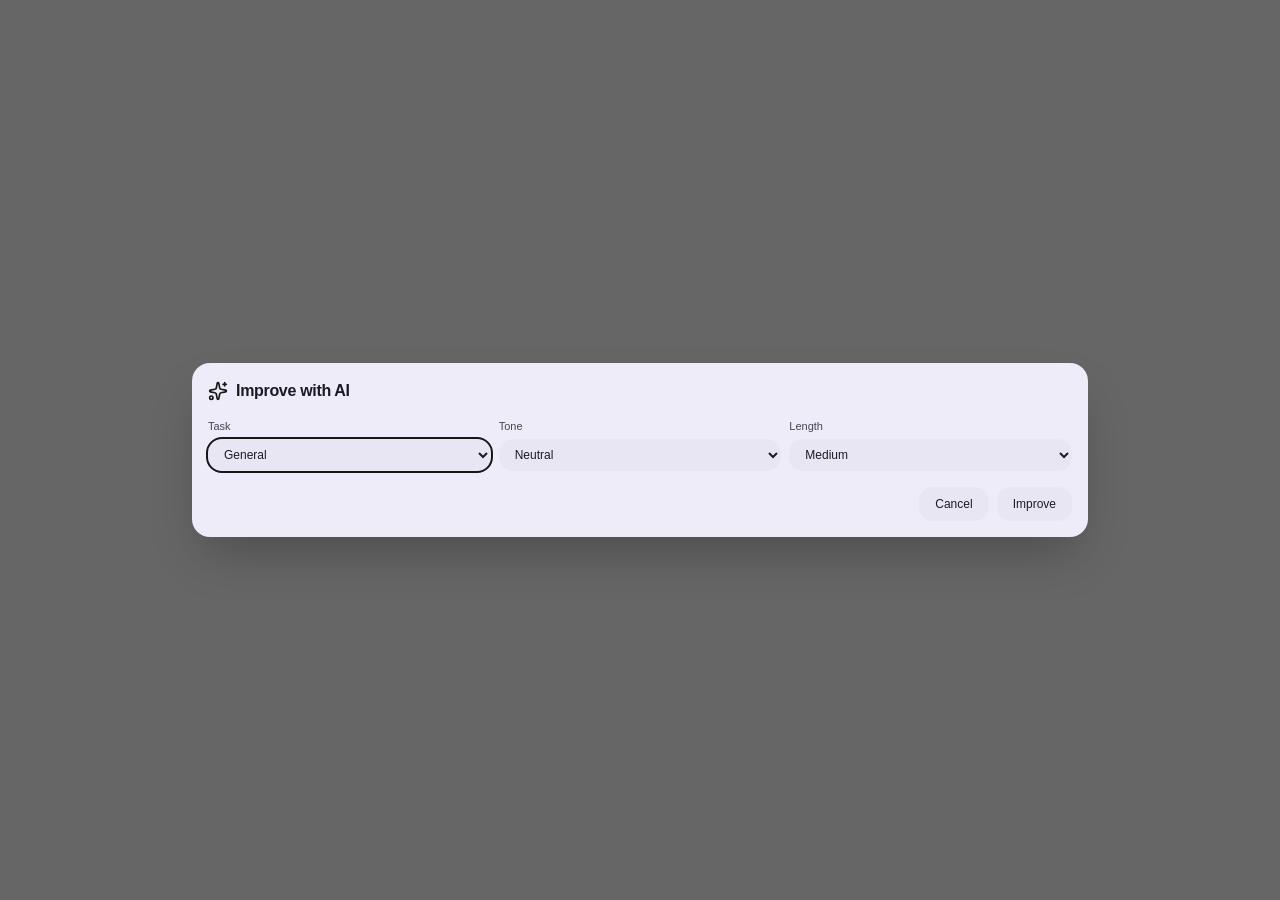
Test case: ImprovePromptDialog › sends the prompt and the chosen options
The width and height of the screenshot is (1280, 900).
Step 1. Select "Friendly" in the dropdown labelled "Tone" → (640, 455), box top-left (499, 439), bottom-right (781, 471)
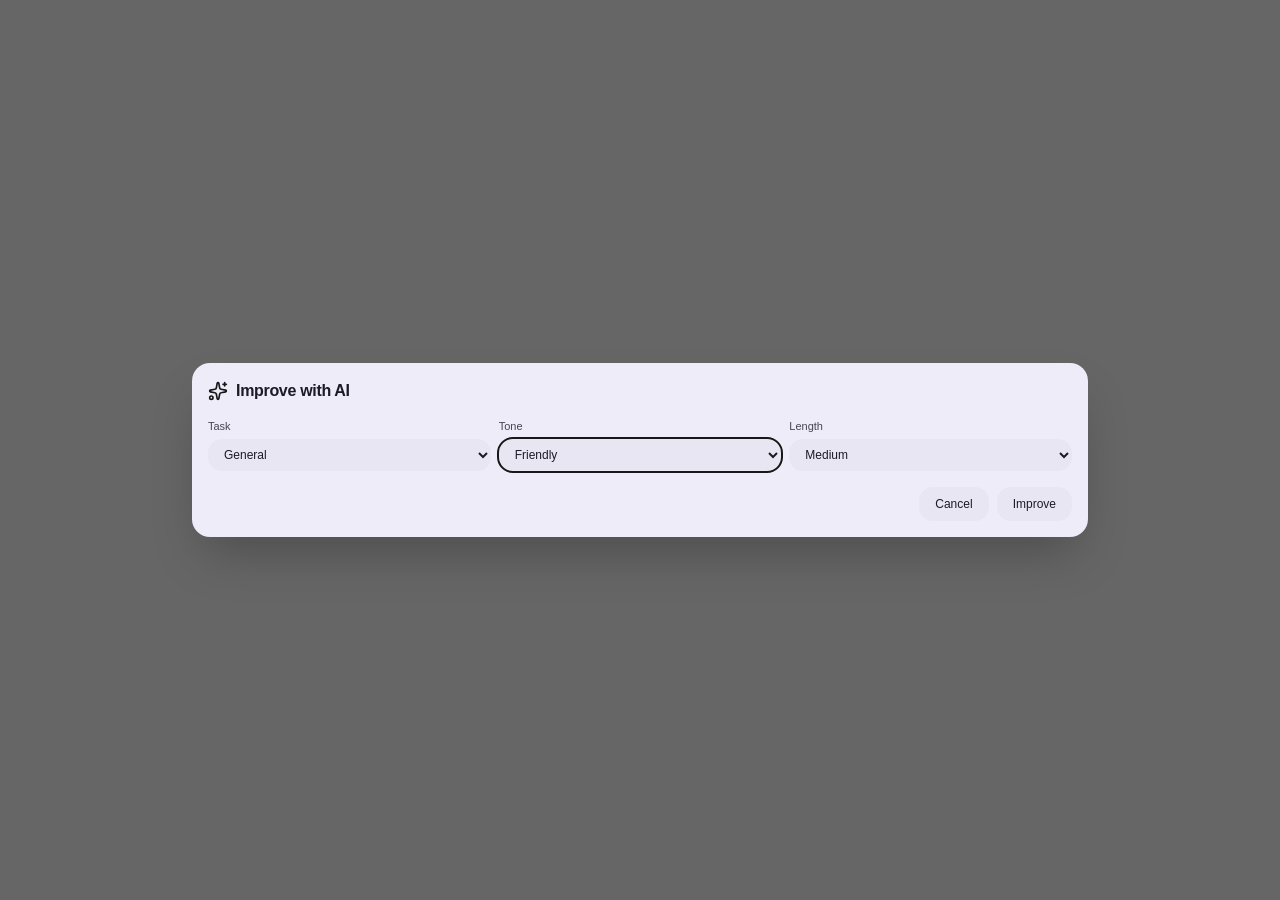
Step 2. Click the button "Improve" → (1034, 504), box top-left (997, 487), bottom-right (1072, 521)
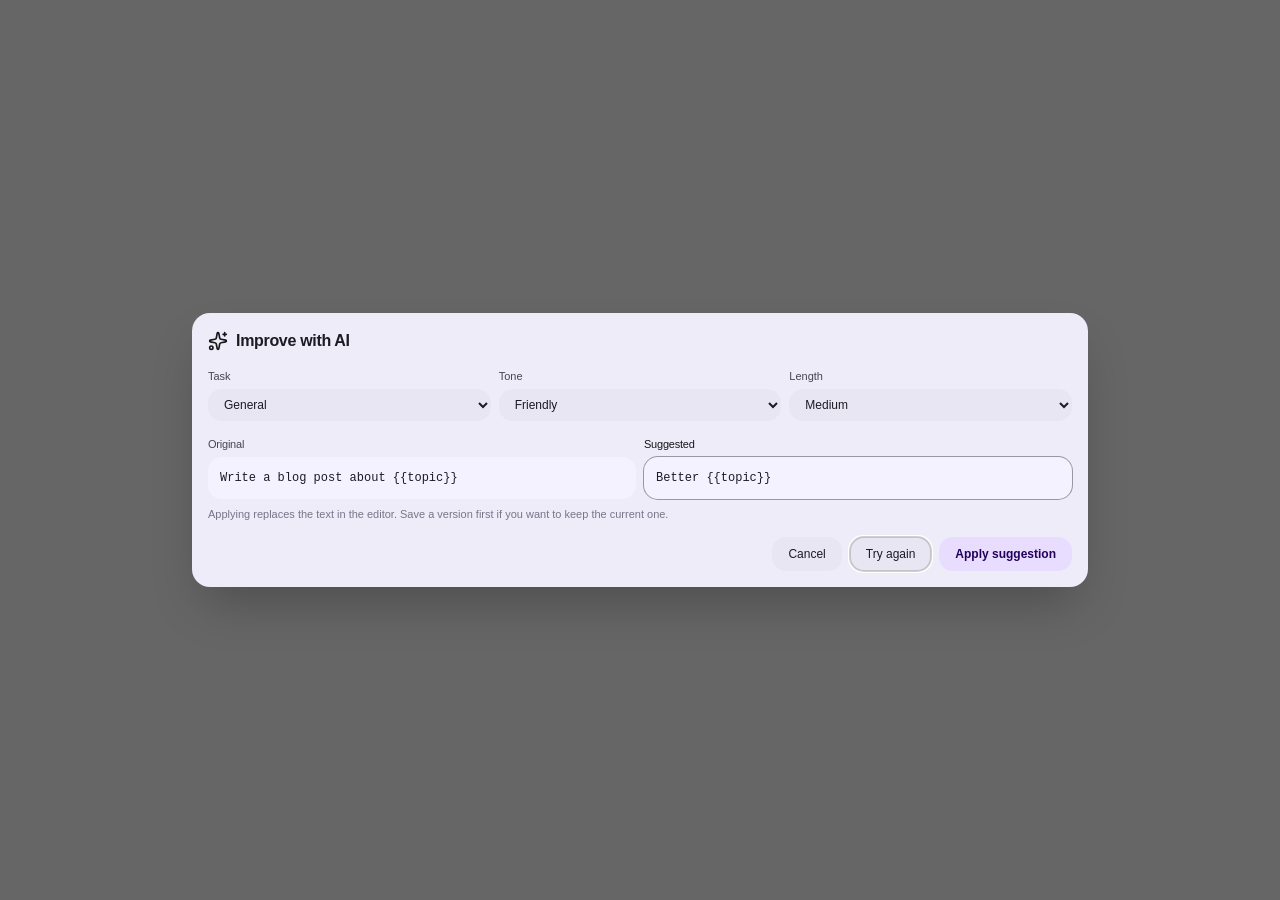
Result: the element named "Suggested prompt" is shown at top-left (644, 437), bottom-right (1072, 499)
